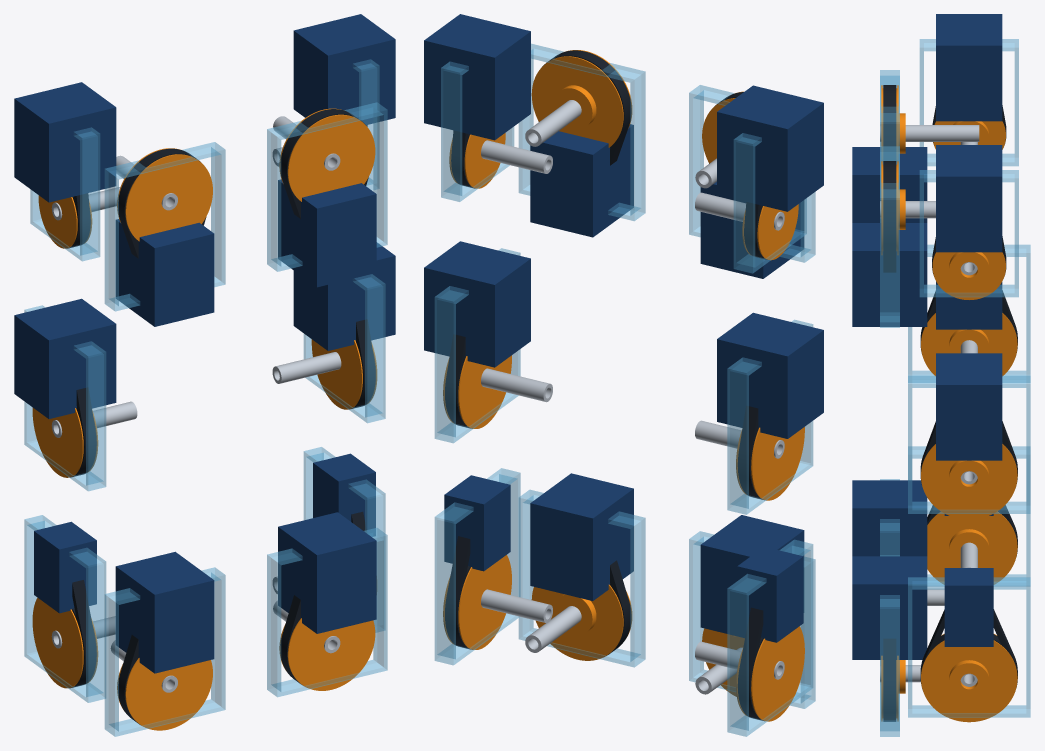
The model's file is HR-30_installed_leg_drivetrains_only_candidate.glb.
3 views of the same model, side by side, from view 1: azimuth 30°, elevation 25°; view 2: azimuth 150°, elevation 25°; view 3: azimuth 270°, elevation 25° (orthographic). The views are drawn at different scales.
Visible parts, largest first — view 1: R_HIP_PITCH_ACTUATOR, R_KNEE_PITCH_ACTUATOR, R_ANKLE_ROLL_ACTUATOR, L_ANKLE_ROLL_ACTUATOR, L_HIP_PITCH_ACTUATOR, R_HIP_ROLL_ACTUATOR, L_HIP_ROLL_ACTUATOR, L_KNEE_PITCH_ACTUATOR, L_HIP_ROLL_OUTPUT_PULLEY, R_HIP_ROLL_OUTPUT_PULLEY, R_ANKLE_PITCH_GUARD, R_HIP_ROLL_GUARD (+27 smaller); view 2: L_HIP_PITCH_ACTUATOR, R_HIP_PITCH_ACTUATOR, L_KNEE_PITCH_ACTUATOR, R_KNEE_PITCH_ACTUATOR, L_ANKLE_ROLL_ACTUATOR, L_HIP_ROLL_ACTUATOR, R_ANKLE_ROLL_ACTUATOR, R_ANKLE_PITCH_GUARD, L_ANKLE_PITCH_GUARD, L_HIP_ROLL_OUTPUT_PULLEY, L_ANKLE_PITCH_ACTUATOR, R_ANKLE_PITCH_ACTUATOR (+35 smaller); view 3: L_ANKLE_ROLL_ACTUATOR, L_KNEE_PITCH_ACTUATOR, L_HIP_PITCH_ACTUATOR, R_HIP_PITCH_ACTUATOR, L_HIP_ROLL_ACTUATOR, L_ANKLE_PITCH_OUTPUT_PULLEY, R_ANKLE_ROLL_ACTUATOR, L_KNEE_PITCH_OUTPUT_PULLEY, R_ANKLE_PITCH_OUTPUT_PULLEY, L_ANKLE_PITCH_ACTUATOR, R_HIP_ROLL_ACTUATOR, L_HIP_ROLL_GUARD (+27 smaller).
Part boxes in pixels (x1,y1,x2,y2): R_HIP_PITCH_ACTUATOR: (14,82,116,202); R_KNEE_PITCH_ACTUATOR: (14,298,116,418); R_ANKLE_ROLL_ACTUATOR: (115,551,214,673); L_ANKLE_ROLL_ACTUATOR: (278,512,376,633); L_HIP_PITCH_ACTUATOR: (293,14,395,124); R_HIP_ROLL_ACTUATOR: (115,219,214,326); L_HIP_ROLL_ACTUATOR: (278,179,376,287); L_KNEE_PITCH_ACTUATOR: (293,242,395,350); L_HIP_ROLL_OUTPUT_PULLEY: (279,108,375,201); R_HIP_ROLL_OUTPUT_PULLEY: (117,148,212,241); R_ANKLE_PITCH_GUARD: (24,515,106,702); R_HIP_ROLL_GUARD: (104,142,225,311); L_HIP_PITCH_ACTUATOR: (424,14,530,140); R_HIP_PITCH_ACTUATOR: (717,85,823,211); L_KNEE_PITCH_ACTUATOR: (424,241,530,367); R_KNEE_PITCH_ACTUATOR: (717,312,823,438); L_ANKLE_ROLL_ACTUATOR: (530,473,633,600); L_HIP_ROLL_ACTUATOR: (530,124,633,237); R_ANKLE_ROLL_ACTUATOR: (700,515,804,637); R_ANKLE_PITCH_GUARD: (727,539,813,736); L_ANKLE_PITCH_GUARD: (434,468,520,665); L_HIP_ROLL_OUTPUT_PULLEY: (531,50,632,147); L_ANKLE_PITCH_ACTUATOR: (444,475,510,571); R_ANKLE_PITCH_ACTUATOR: (737,546,803,642); L_ANKLE_ROLL_ACTUATOR: (852,556,927,659); L_KNEE_PITCH_ACTUATOR: (936,353,1002,460); L_HIP_PITCH_ACTUATOR: (936,145,1002,252); R_HIP_PITCH_ACTUATOR: (936,14,1002,121); L_HIP_ROLL_ACTUATOR: (852,223,927,326); L_ANKLE_PITCH_OUTPUT_PULLEY: (921,633,1017,722); R_ANKLE_ROLL_ACTUATOR: (852,480,927,556); L_KNEE_PITCH_OUTPUT_PULLEY: (921,444,1017,519); R_ANKLE_PITCH_OUTPUT_PULLEY: (927,511,1017,584); L_ANKLE_PITCH_ACTUATOR: (944,568,993,646); R_HIP_ROLL_ACTUATOR: (852,147,927,222); L_HIP_ROLL_GUARD: (880,146,899,327).
Bounding box in the file's own units: 267 × 447 × 124.
